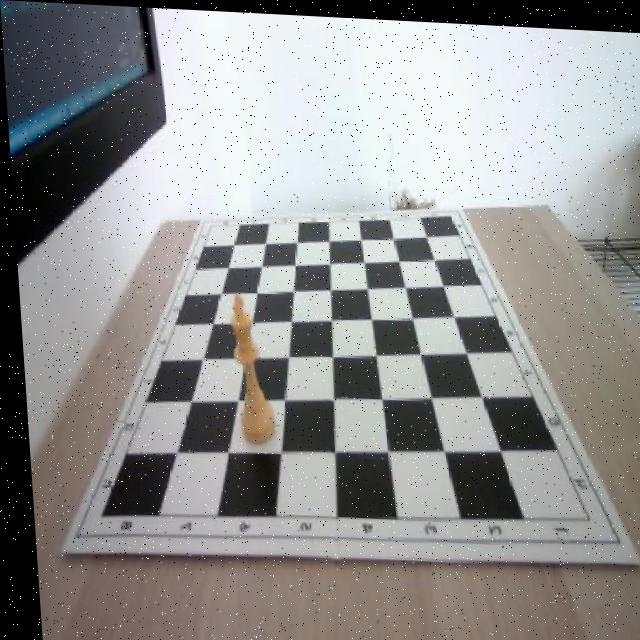white-bishop: (225, 290, 274, 443)
